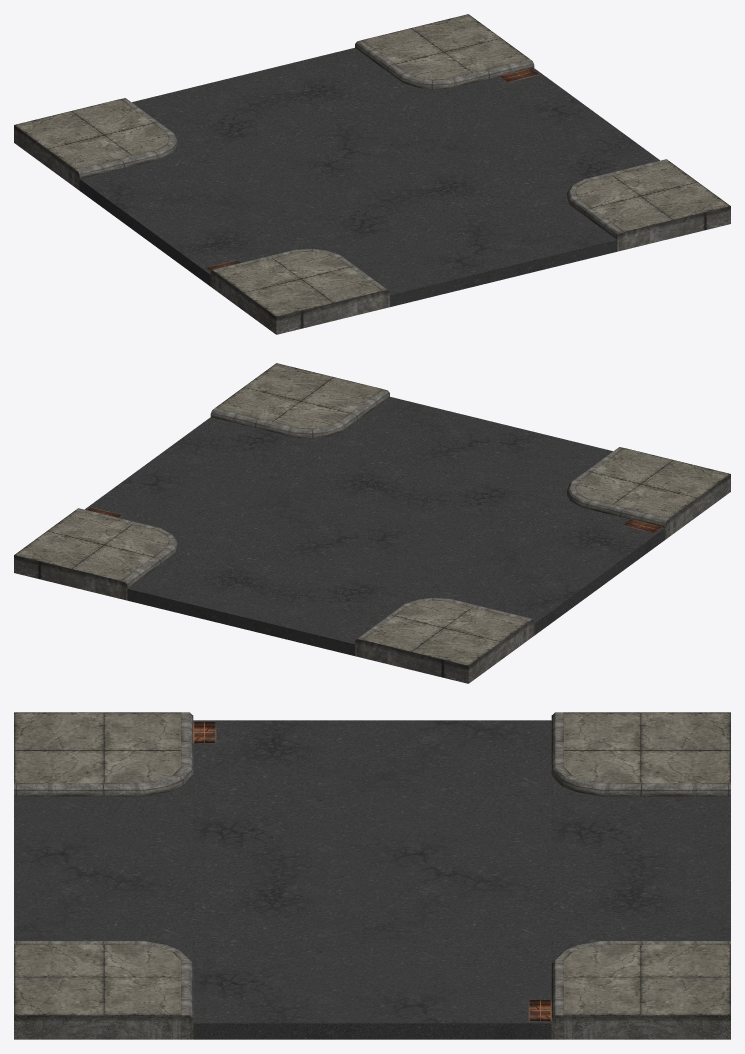
File: x_cross.fbx
3 views of the same model, one above another, from view 1: azimuth 30°, elevation 25°; view 2: azimuth 150°, elevation 25°; view 3: azimuth 270°, elevation 25° (orthographic). The views are drawn at different scales.
Parts seen in each view (by area): view 1: Crossroad_X_Road, Crossroad_X_Sidewalk; view 2: Crossroad_X_Road, Crossroad_X_Sidewalk; view 3: Crossroad_X_Road, Crossroad_X_Sidewalk, Metal_Grid.
Boxes of the visible parts, bbox=[...] form: Crossroad_X_Road: bbox=[79, 48, 659, 306]; Crossroad_X_Sidewalk: bbox=[14, 14, 730, 334]; Crossroad_X_Road: bbox=[85, 397, 665, 655]; Crossroad_X_Sidewalk: bbox=[14, 363, 730, 683]; Crossroad_X_Road: bbox=[14, 720, 730, 1039]; Crossroad_X_Sidewalk: bbox=[14, 712, 730, 1039]; Metal_Grid: bbox=[193, 722, 551, 1021].
Size of the model in its own units: 4 by 0.15 by 4.
